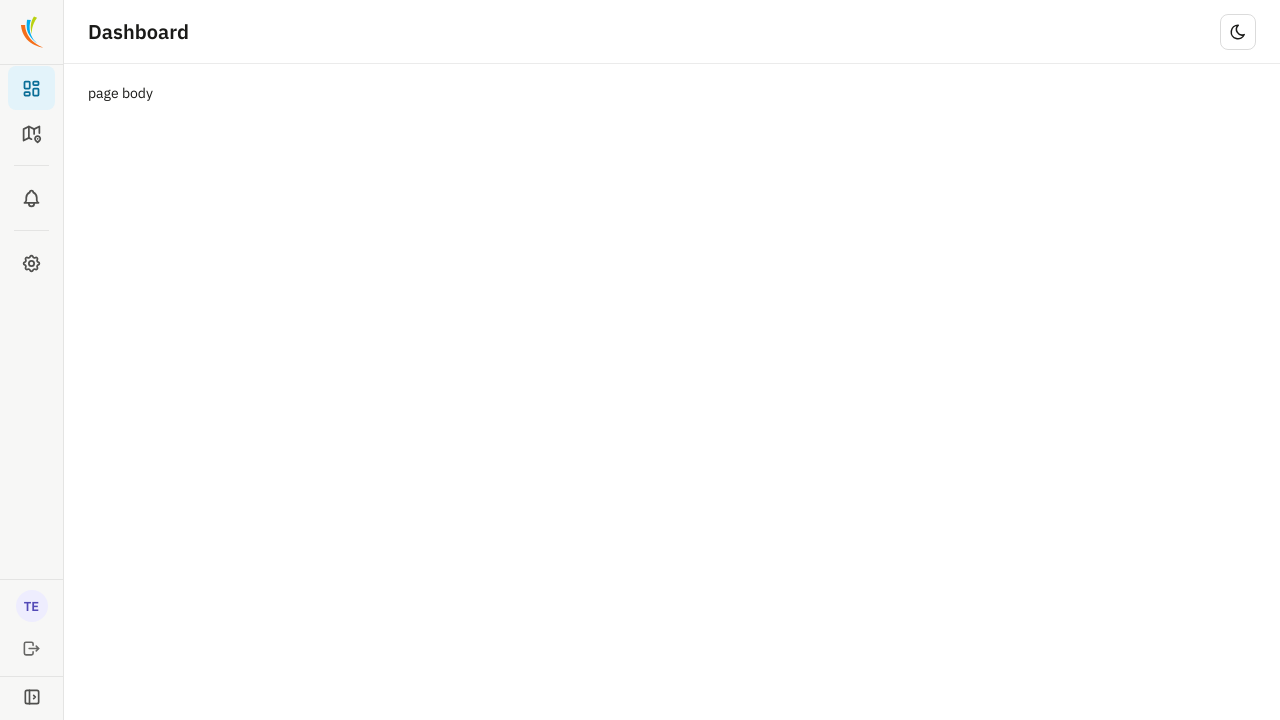
Layout › tablet: expand opens the full sidebar as an overlay; Esc closes it
Click the button named "Expand navigation" at [32, 698], box [0,676,63,719]
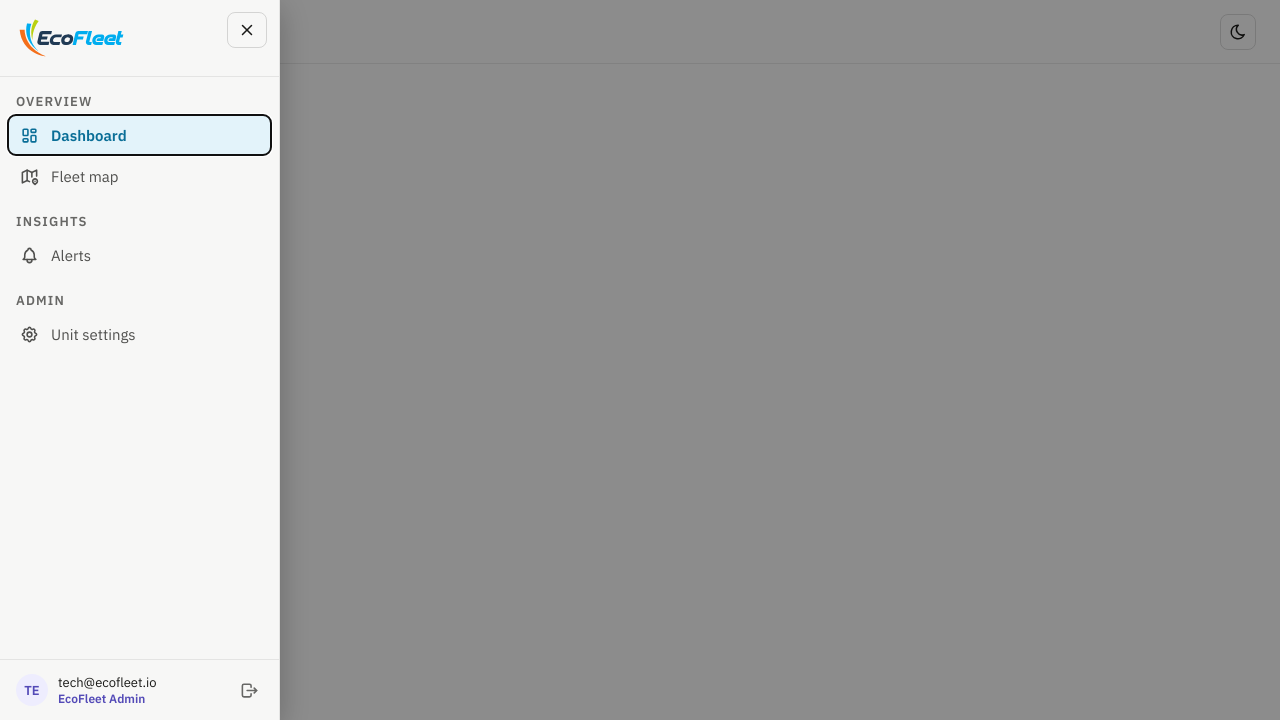
Expected: the dialog named "Navigation" is shown
Expected: the text "tech@ecofleet.io" is shown, [58,674,157,691]
Press Escape in the dialog named "Navigation", box [0,0,280,719]
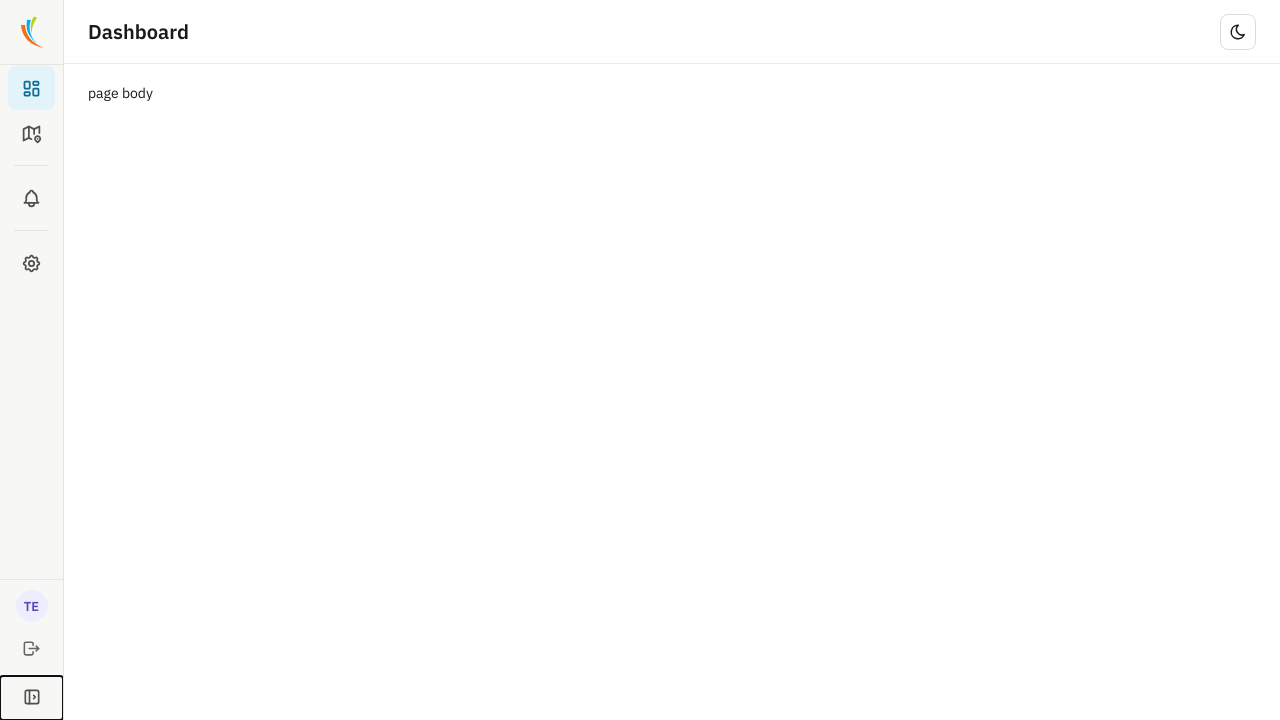
Expected: the button "Navigation" is gone
